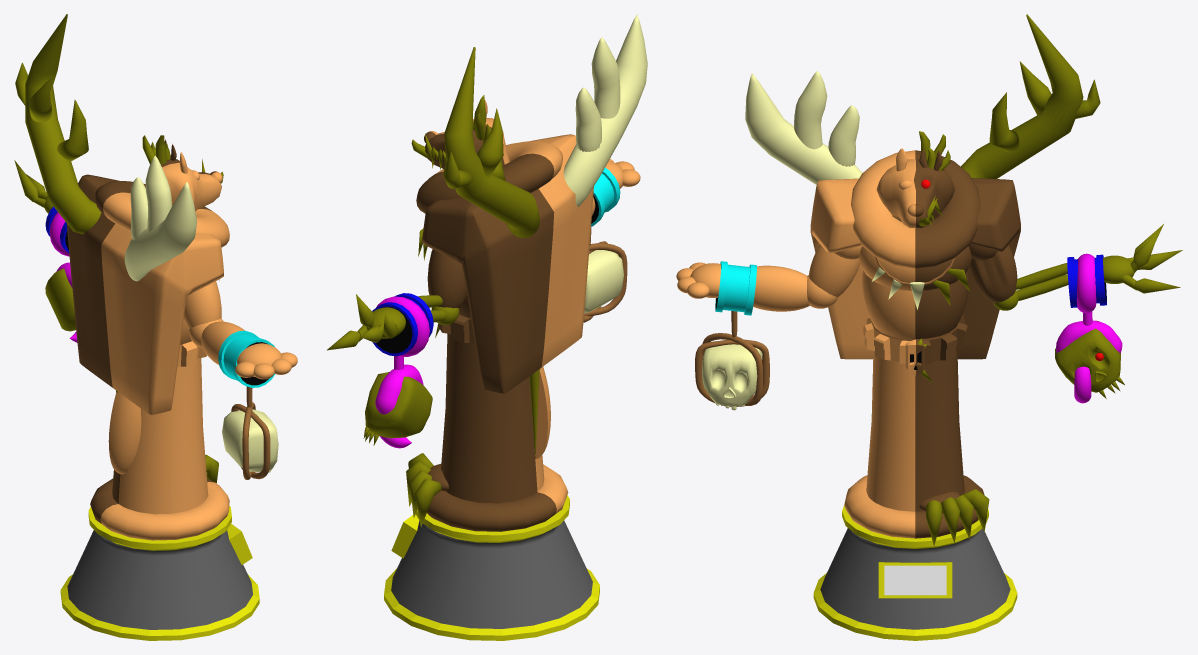
Rendered from Wolf Staute Finsish combined.fbx.
3 renders of one model, left to right at view 1: azimuth 30°, elevation 25°; view 2: azimuth 150°, elevation 25°; view 3: azimuth 270°, elevation 25°, orthographic. The views are drawn at different scales.
Parts seen in each view (by area): view 1: pCube11; view 2: pCube11; view 3: pCube11.
Part boxes in pixels (box(x1,y1,x2,y2)): pCube11: box(14, 14, 297, 640); pCube11: box(327, 14, 647, 640); pCube11: box(676, 14, 1182, 640).
Size of the model in its own units: 1.2 by 3.67 by 2.99.
